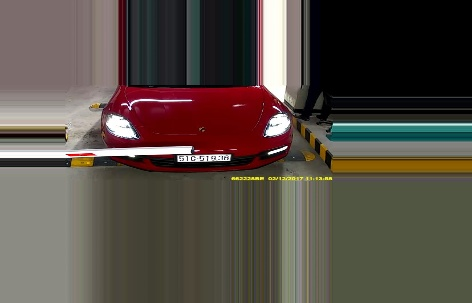plate: (175, 151, 234, 163)
